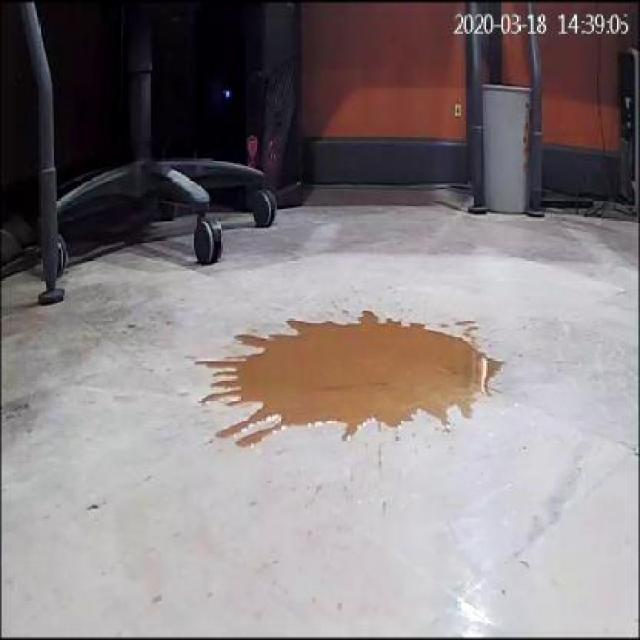spill: (190, 304, 502, 456)
